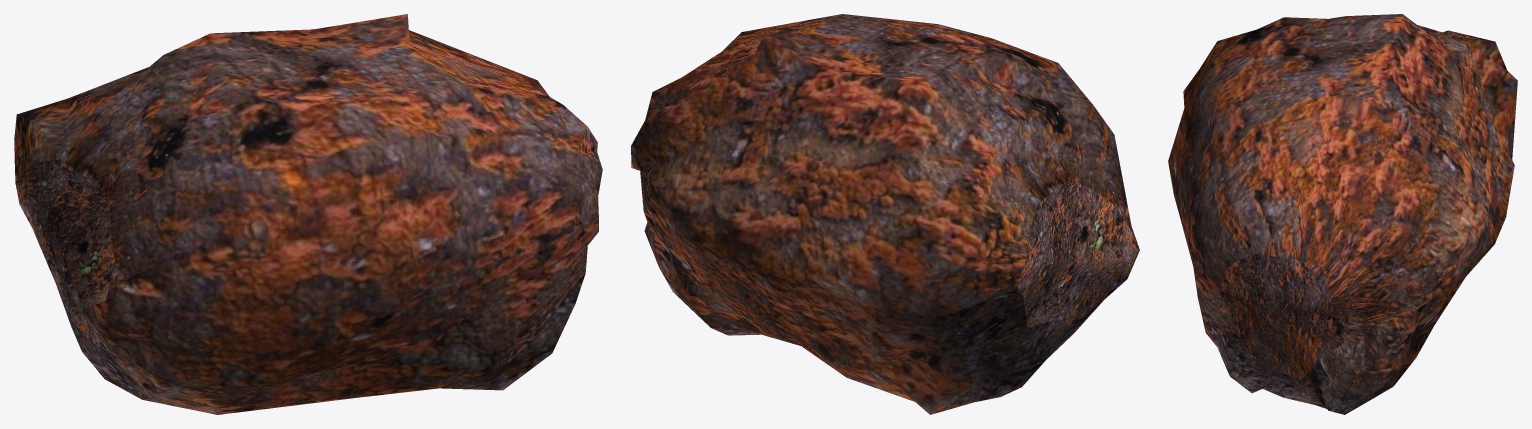
Rendered from stone_2.FBX.
The picture shows the model from 3 angles, left to right: view 1: azimuth 30°, elevation 25°; view 2: azimuth 150°, elevation 25°; view 3: azimuth 270°, elevation 25°; orthographic projection. The views are drawn at different scales.
Visible parts, largest first — view 1: Sphere02; view 2: Sphere02; view 3: Sphere02.
Boxes of the visible parts, x1,y1,x2,y2 form: Sphere02: (14,14,602,414); Sphere02: (631,14,1139,414); Sphere02: (1168,14,1517,414).
Bounding box in the file's own units: 89.87 × 59.6 × 63.59.
